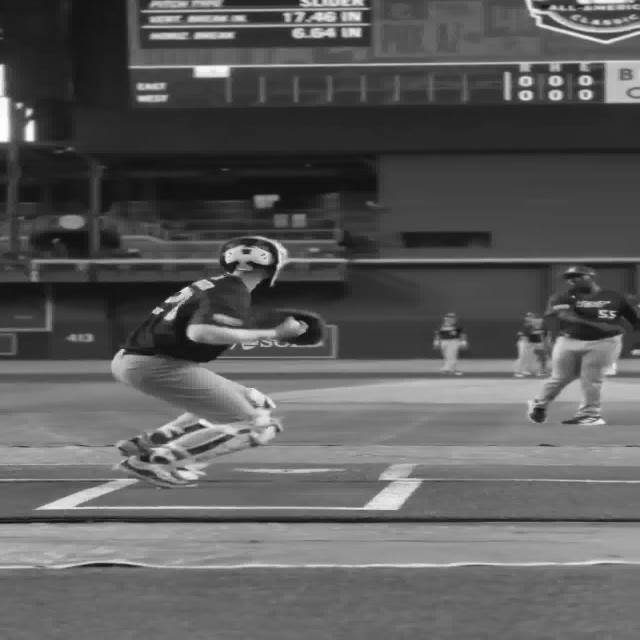baseball_glove: (270, 308, 326, 346)
shoe: (118, 456, 199, 488), (116, 433, 158, 458), (526, 399, 548, 423), (561, 415, 605, 425)
